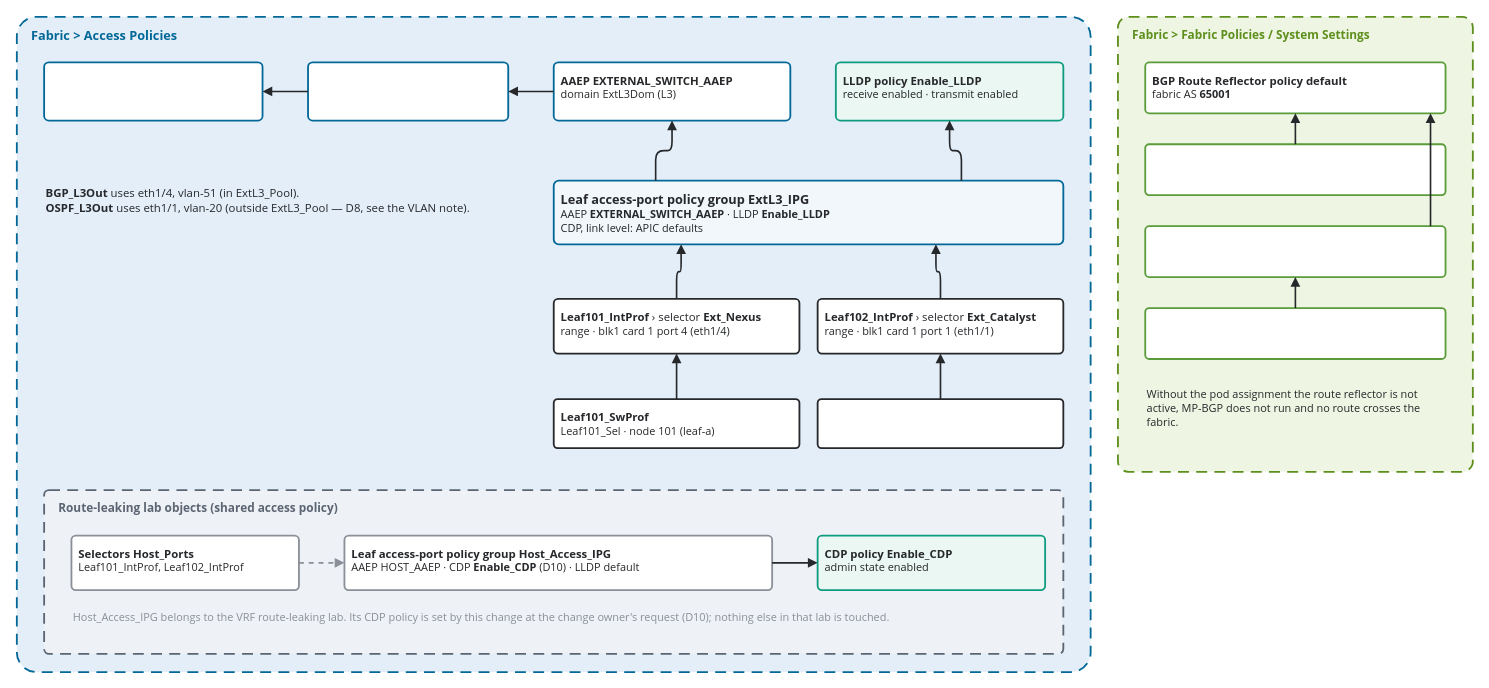
This 1489x688 diagram has some shape labels left out. The shapes that lost their labels are listed below. From the top down, each one's centre as x and y in pixels, then its label:
the point at 153,91: VLAN pool ExtL3_Pool static · vlan-51 – vlan-60 · role external
the point at 408,91: L3 domain ExtL3Dom pool ExtL3_Pool
the point at 1295,169: Route-reflector node spine-1 · node 1001 · pod 1
the point at 1295,251: Pod policy group Pod_PG BGP RR policy: default
the point at 1295,333: Pod profile default pod selector default (all pods) → Pod_PG
the point at 940,423: Leaf102_SwProf Leaf102_Sel · node 102 (leaf-b)
